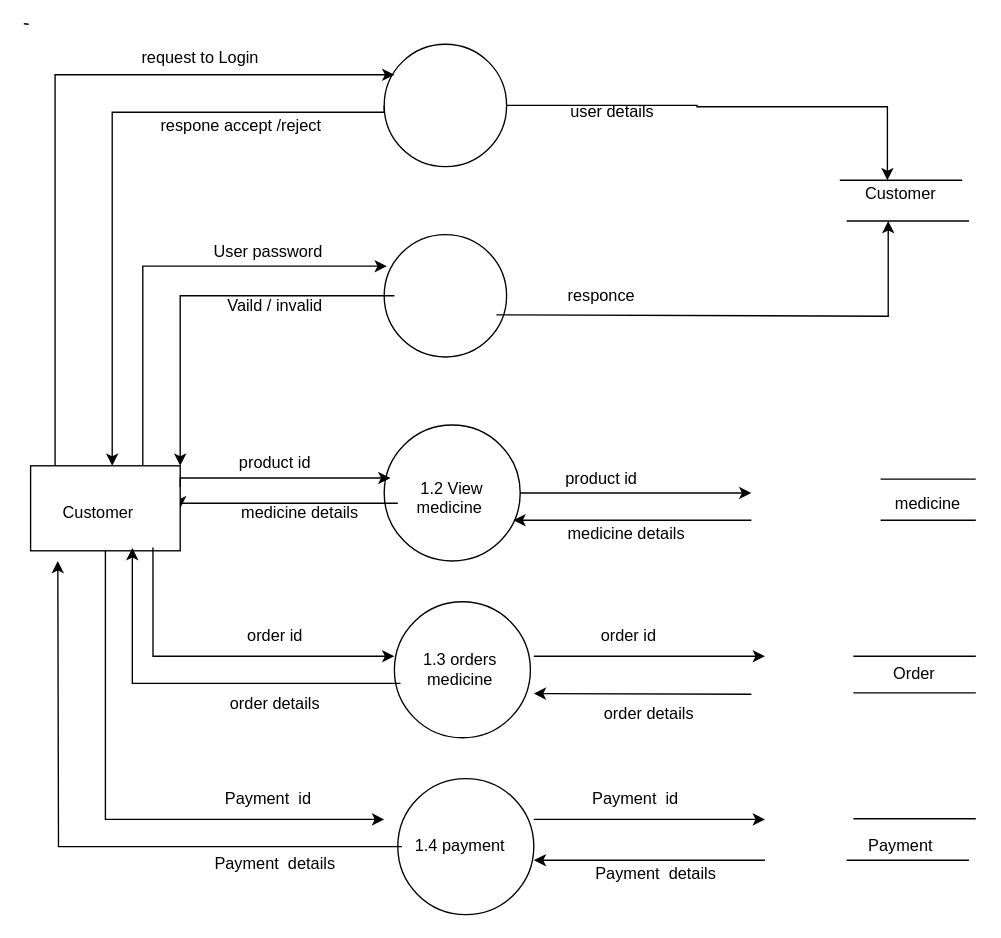
This 1001x938 diagram has some shape labels left out. The shapes that lost their labels are listed below. From the top down, each one's centre as x and y in pixels, then its label:
point (445, 105): 1.0 register
point (445, 295): 1.1 Login
